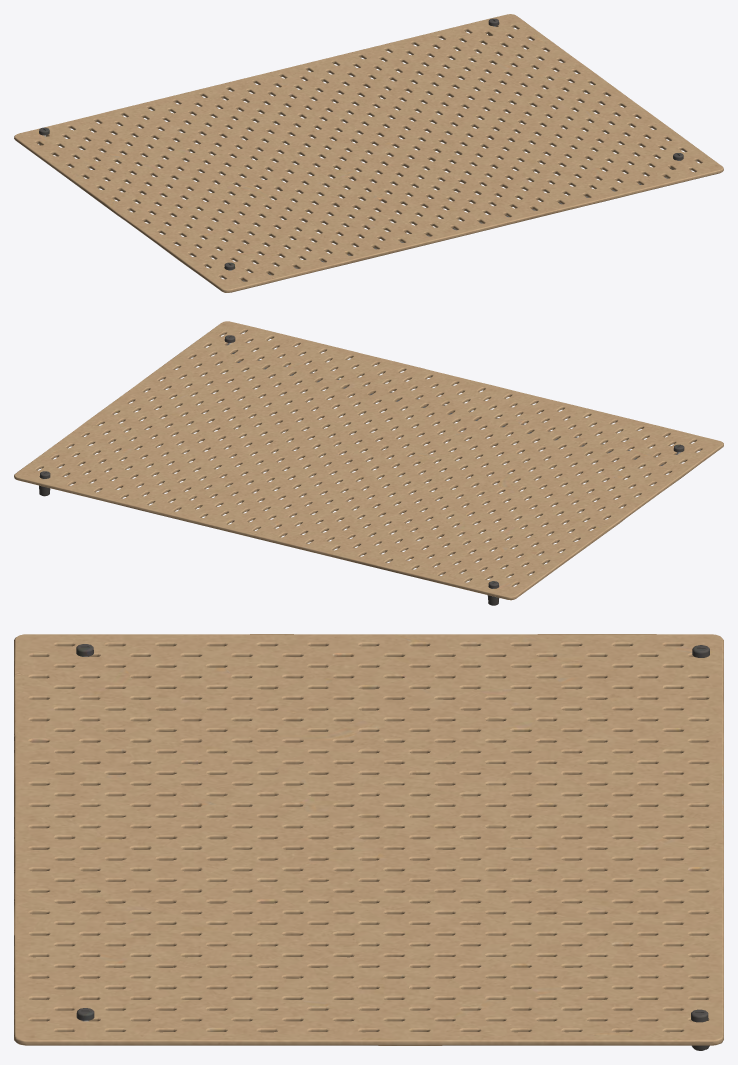
Rendered from skadis_pegboard.obj.
3 renders of one model, top to bottom at view 1: azimuth 30°, elevation 25°; view 2: azimuth 150°, elevation 25°; view 3: azimuth 270°, elevation 25°, orthographic. The views are drawn at different scales.
Visible parts, largest first — view 1: skadis_pegboard; view 2: skadis_pegboard; view 3: skadis_pegboard.
Part boxes in pixels (box(x1,y1,x2,y2)): skadis_pegboard: box(14, 14, 723, 292); skadis_pegboard: box(14, 321, 723, 605); skadis_pegboard: box(14, 634, 723, 1050).
Bounding box in the file's own units: 0.7601 × 0.0321 × 0.56.
Materials: 1 (1 with a texture image).
